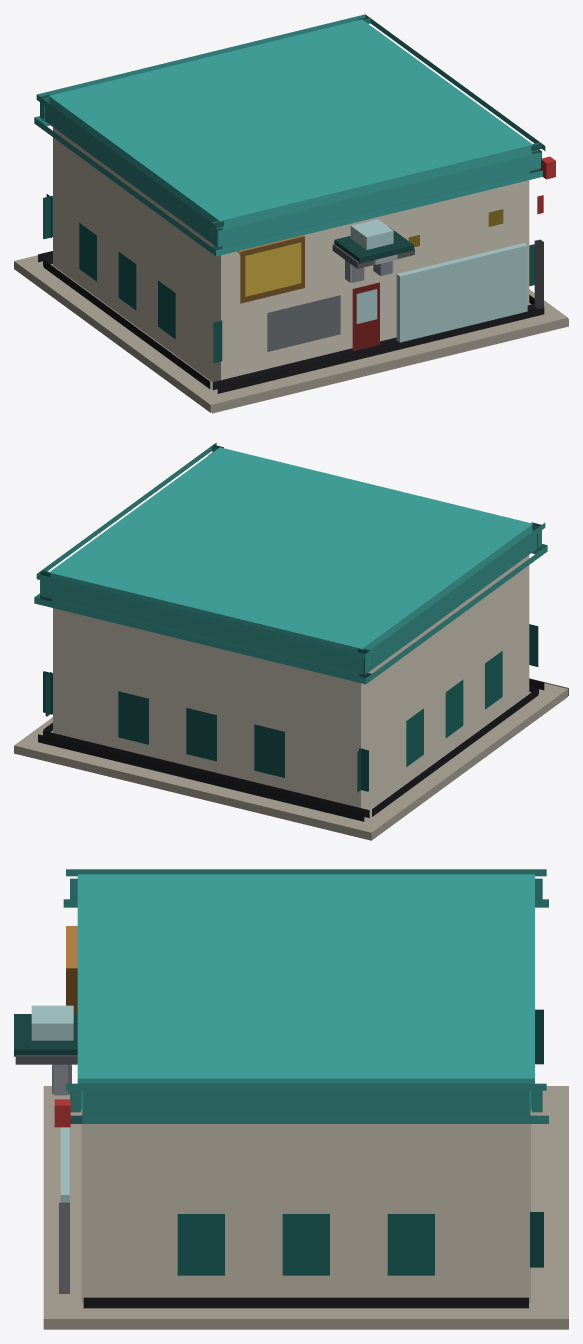
Rendered from PizzaUfoSil.fbx.
3 views of the same model, one above another, from view 1: azimuth 30°, elevation 25°; view 2: azimuth 150°, elevation 25°; view 3: azimuth 270°, elevation 25° (orthographic). The views are drawn at different scales.
Visible parts, largest first — view 1: PU_S_All; view 2: PU_S_All; view 3: PU_S_All.
Boxes of the visible parts, left/top/right/bottom form: PU_S_All: left=14, top=14, right=568, bottom=413; PU_S_All: left=14, top=442, right=568, bottom=840; PU_S_All: left=14, top=869, right=568, bottom=1329.
Size of the model in its own units: 42.04 by 19.9 by 42.3.
